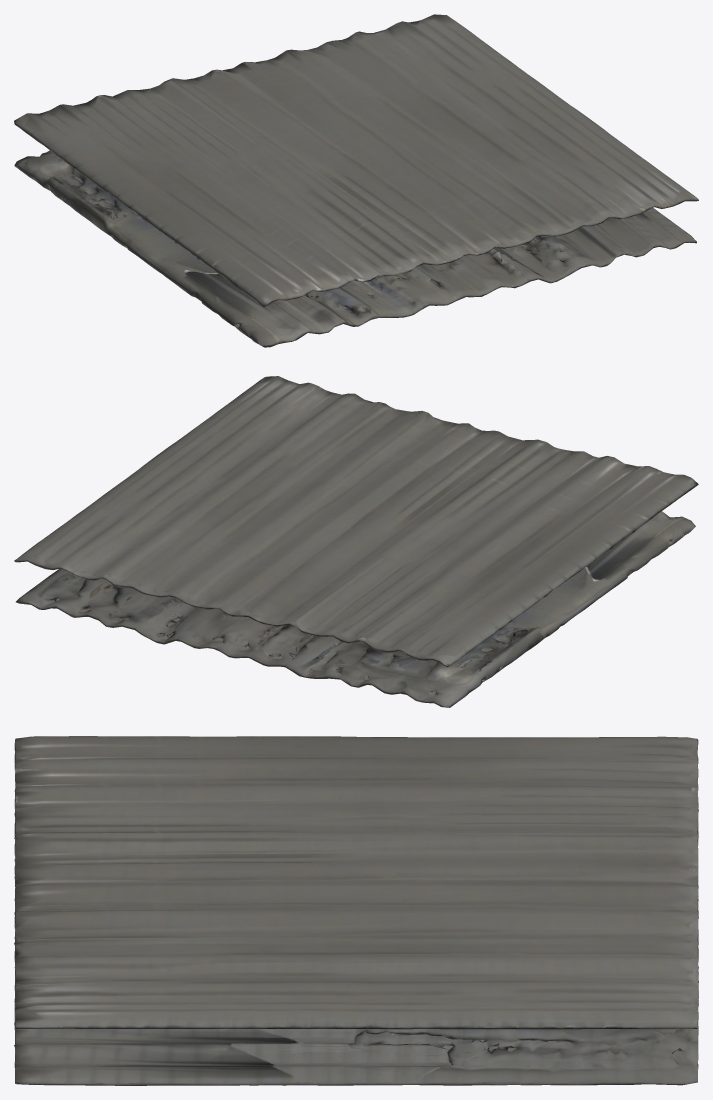
3 renders of one model, top to bottom at view 1: azimuth 30°, elevation 25°; view 2: azimuth 150°, elevation 25°; view 3: azimuth 270°, elevation 25°, orthographic. The views are drawn at different scales.
Size of the model in its own units: 2.01 by 0.2472 by 2.01.
Materials: 1 (1 with a texture image).
